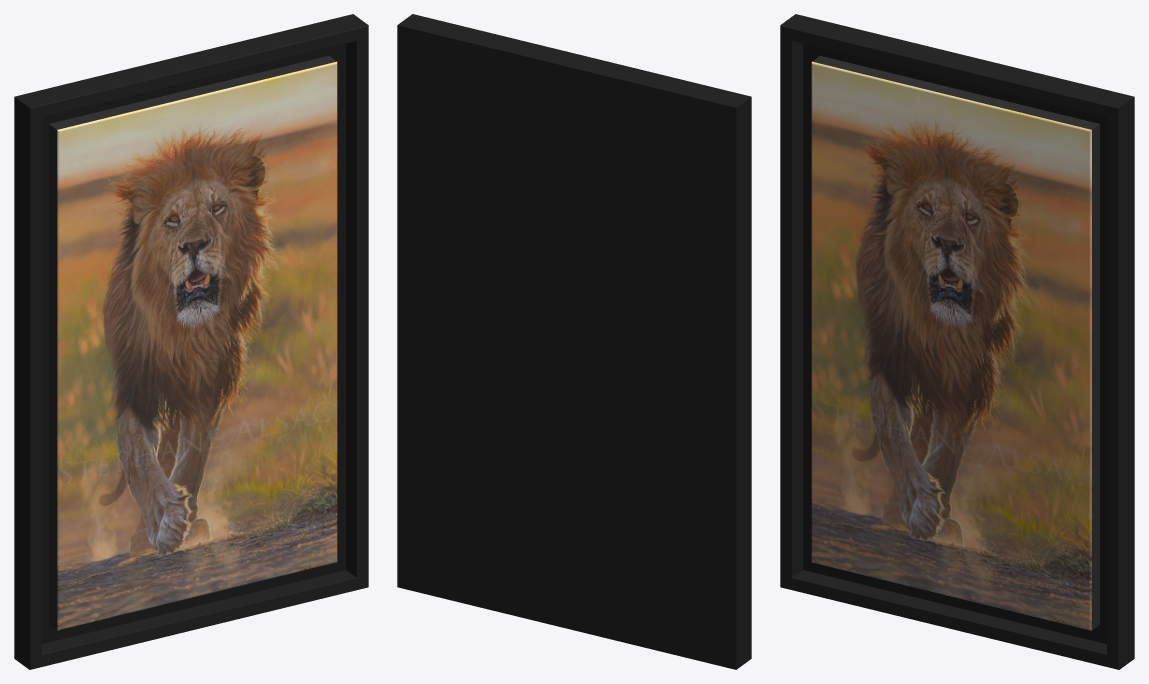
Rendered from grand-tableau-lion-classique-a196dd92.glb.
3 renders of one model, left to right at view 1: azimuth 30°, elevation 25°; view 2: azimuth 150°, elevation 25°; view 3: azimuth 330°, elevation 25°, orthographic.
Parts seen in each view (by area): view 1: Painting; view 2: Painting; view 3: Painting.
Boxes of the visible parts, left/top/right/bottom form: Painting: left=14, top=14, right=368, bottom=669; Painting: left=397, top=14, right=751, bottom=669; Painting: left=780, top=14, right=1134, bottom=669.
Bounding box in the file's own units: 0.496 × 0.786 × 0.04.
4 materials, 2 textured.
